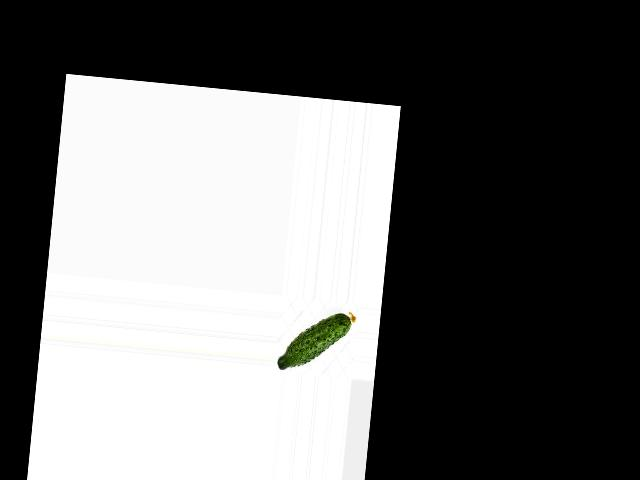cucumber: (277, 306, 356, 377)
